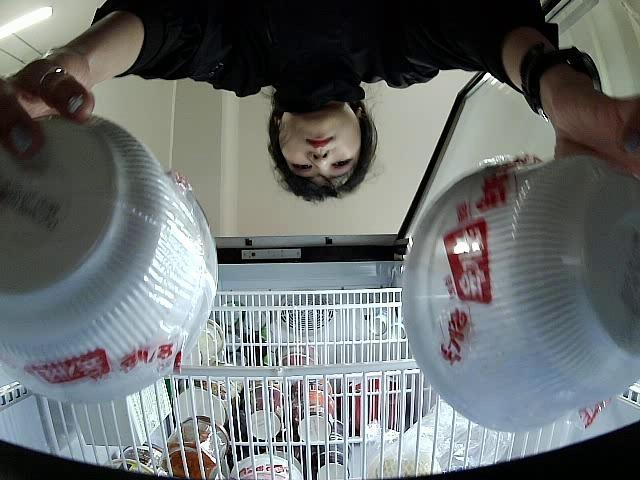09_yukGaeJang: (400, 155, 640, 432), (0, 114, 219, 404)
